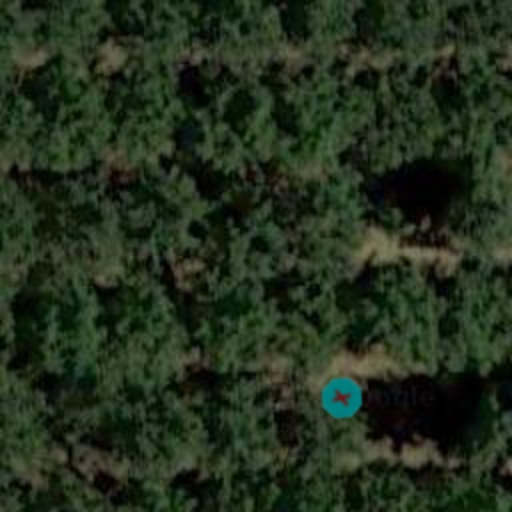octagon: (314, 370, 370, 426)
